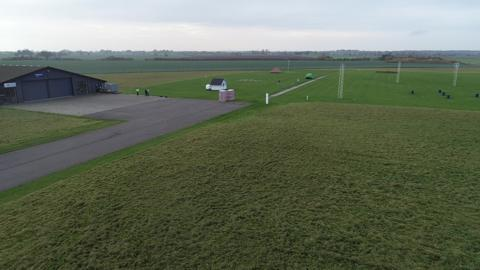RockwoolPallet: (228, 88, 235, 100)
